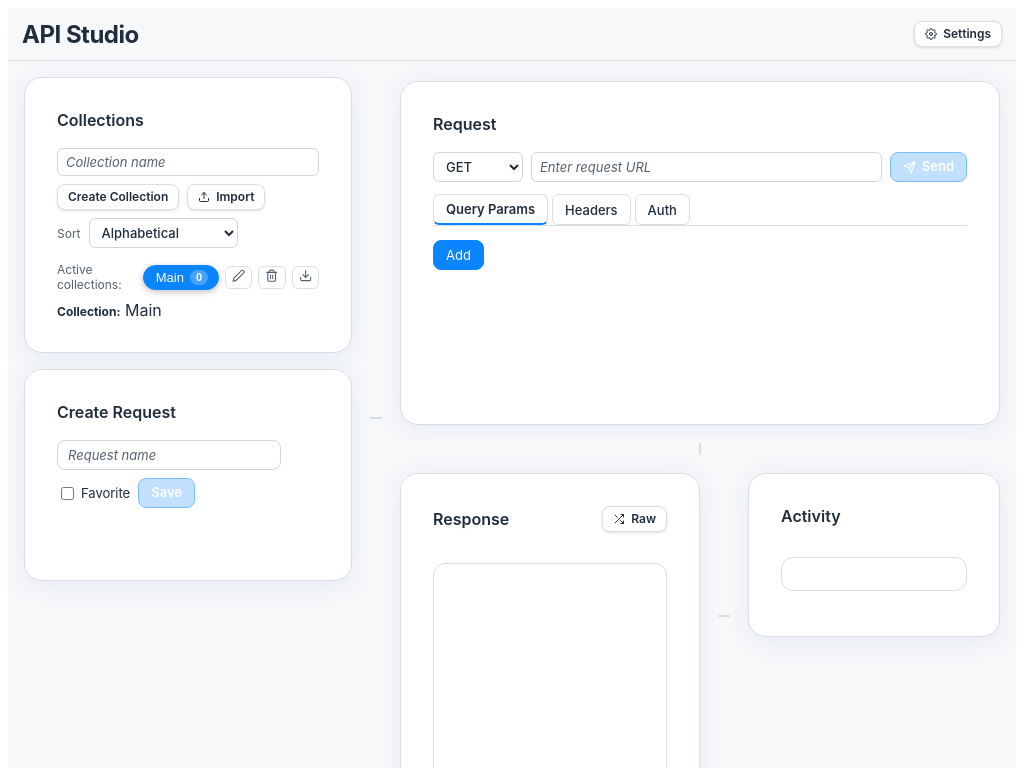
Collections edit/delete icons › opens inline rename dialog on edit icon click
This screenshot has width=1024, height=768.
What coordinates should you click on to do the following:
click the button named "rename collection"
I would click on:
 (239, 277)
Its box is x1=225 y1=266 x2=252 y2=288.
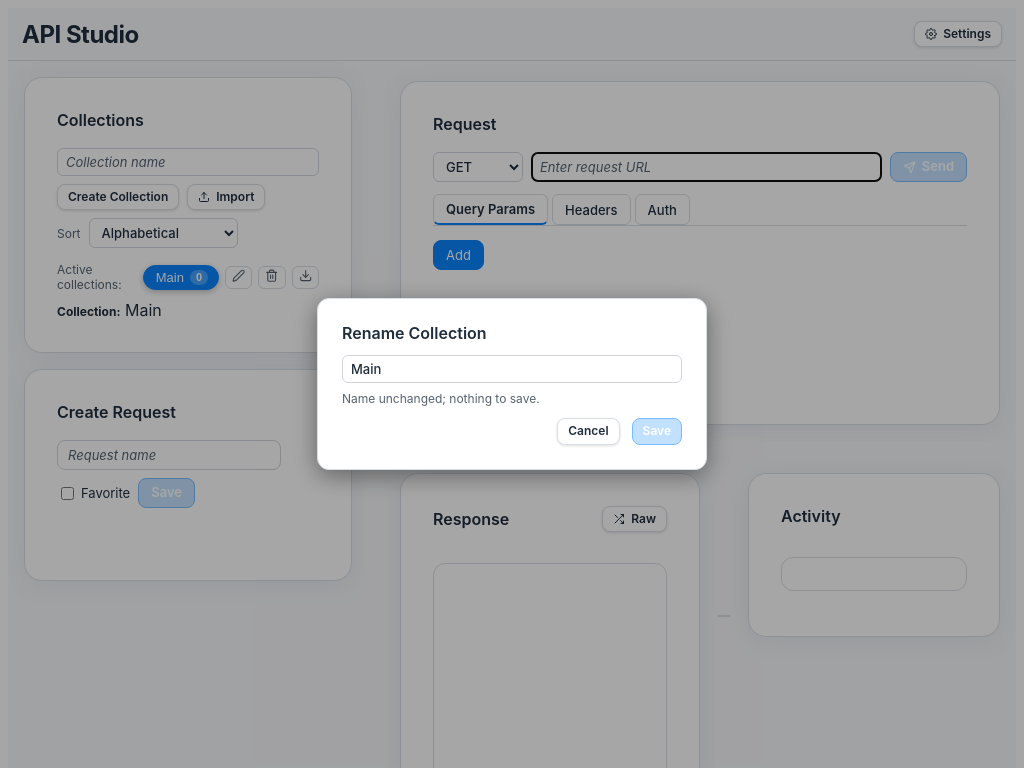
Expected: the dialog is shown
Expected: the field with placeholder "New collection name" is shown, x1=342 y1=355 x2=682 y2=383
